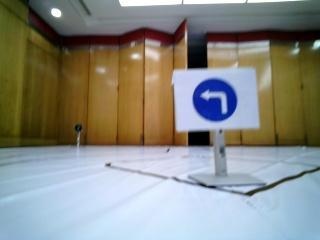left: (172, 71, 258, 128)
